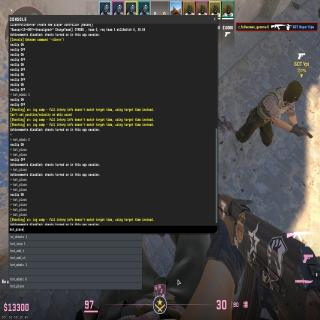T-Body: (236, 81, 306, 145)
T-Head: (285, 79, 303, 103)
